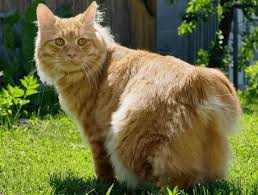cat: (18, 3, 249, 188)
